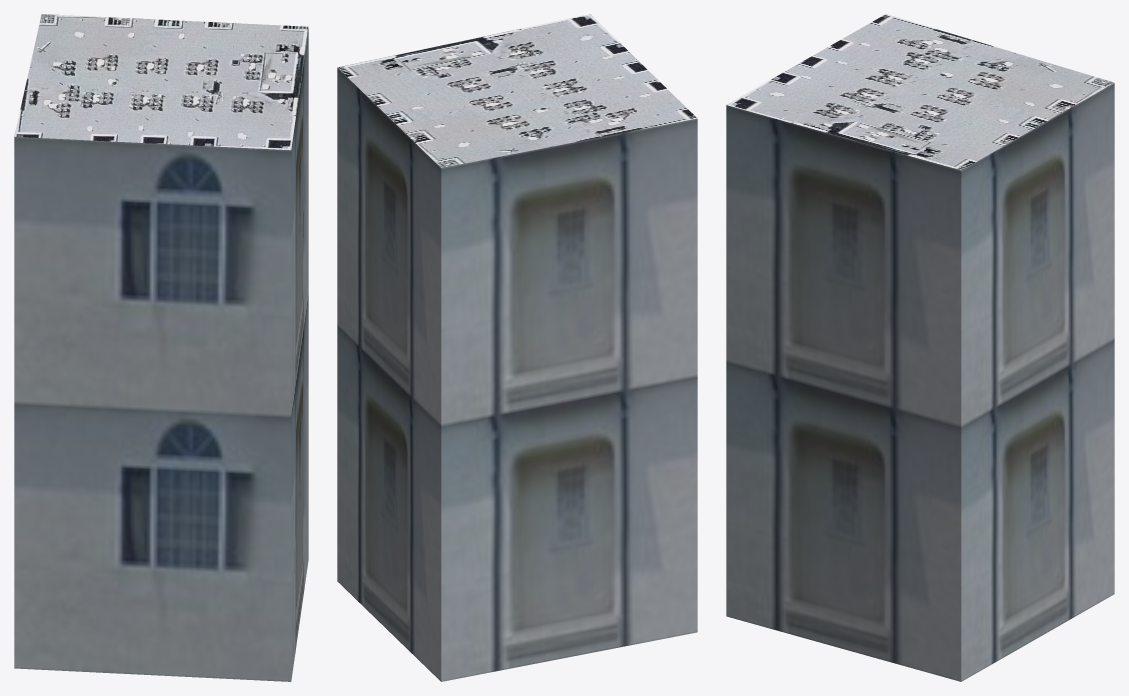
File: ResTex__4571.fbx
The picture shows the model from 3 angles, left to right: view 1: azimuth 30°, elevation 25°; view 2: azimuth 150°, elevation 25°; view 3: azimuth 270°, elevation 25°; orthographic projection. The views are drawn at different scales.
Visible parts, largest first — view 1: CityEngineMaterial_17_m, CityEngineMaterial_8_m; view 2: CityEngineMaterial_17_m, CityEngineMaterial_8_m; view 3: CityEngineMaterial_17_m, CityEngineMaterial_8_m.
Part boxes in pixels (left/top/right/bottom): CityEngineMaterial_17_m: left=14, top=29, right=308, bottom=681; CityEngineMaterial_8_m: left=14, top=14, right=308, bottom=150; CityEngineMaterial_17_m: left=337, top=68, right=697, bottom=681; CityEngineMaterial_8_m: left=337, top=14, right=697, bottom=167; CityEngineMaterial_17_m: left=726, top=83, right=1114, bottom=681; CityEngineMaterial_8_m: left=727, top=14, right=1114, bottom=170.
Bounding box in the file's own units: 3.94 × 6 × 4.13.
2 materials, 2 textured.
